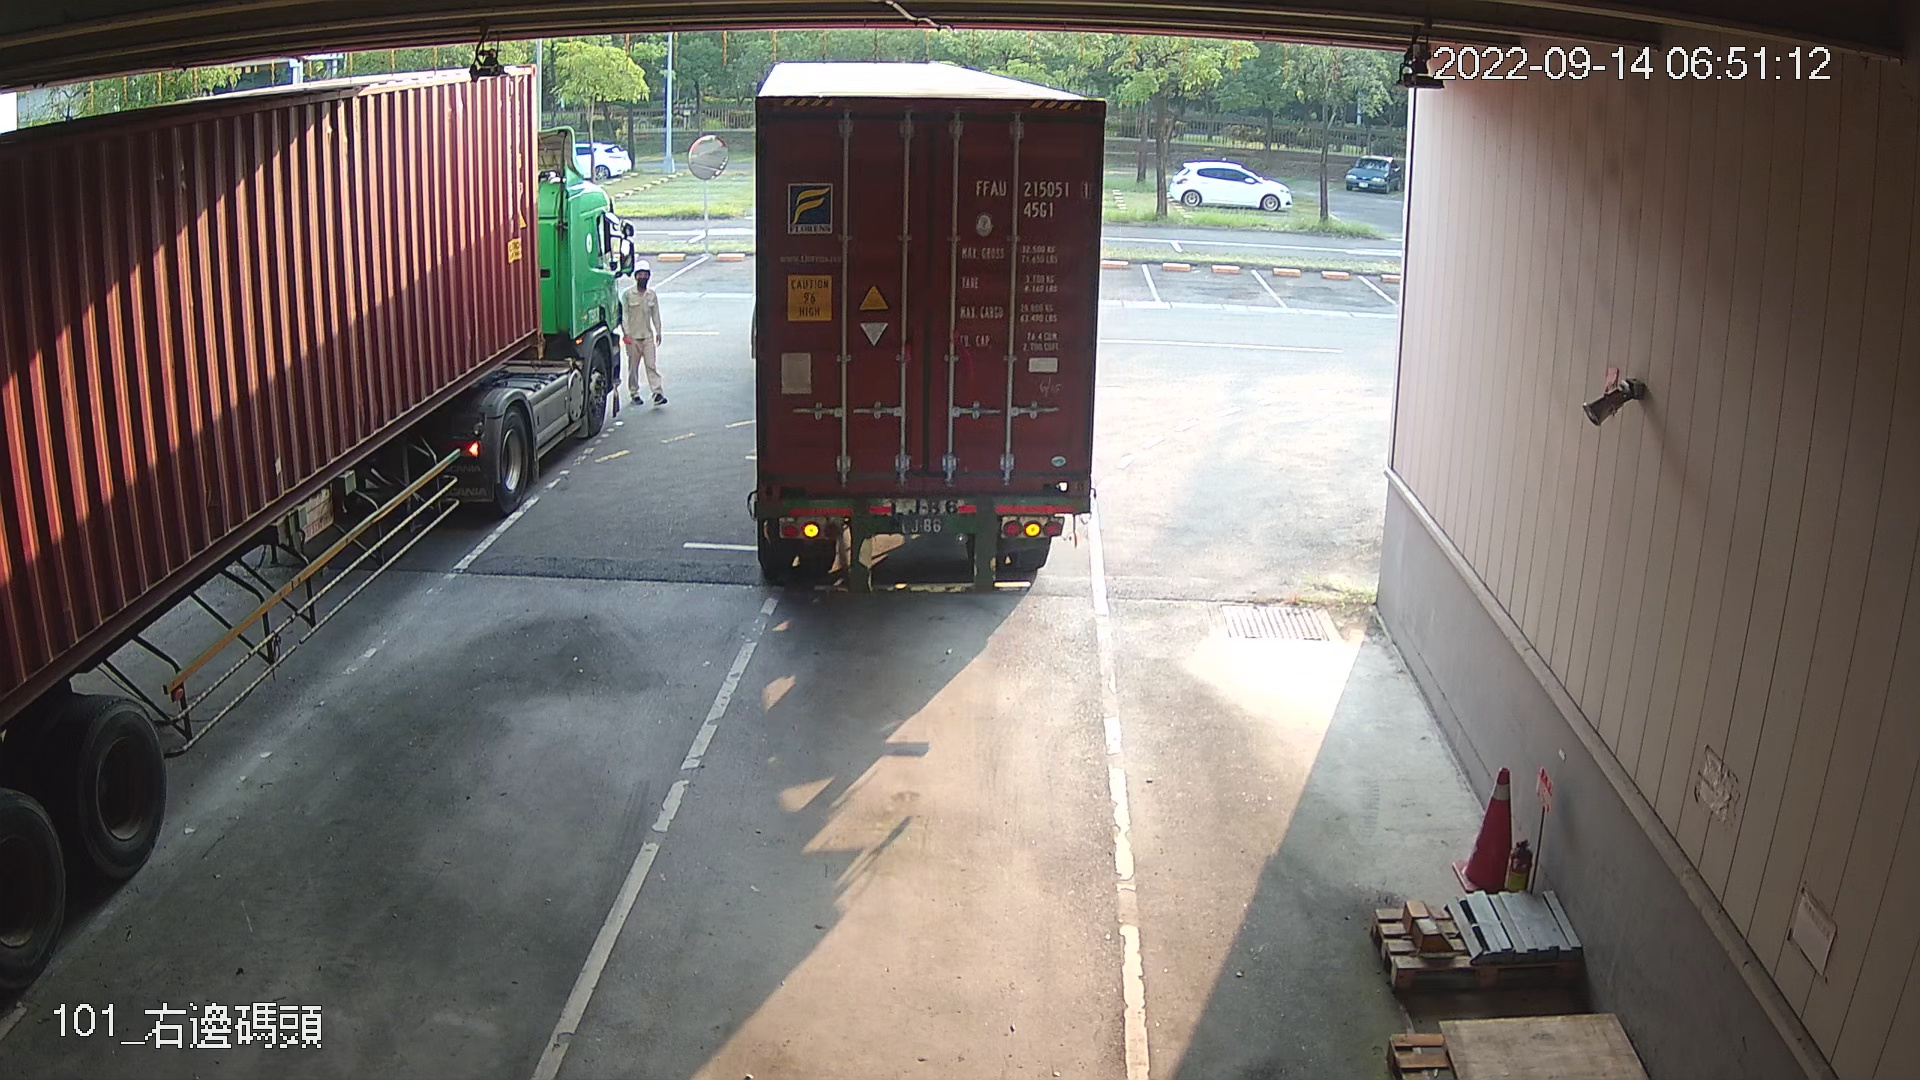container: (969, 173, 1095, 223)
